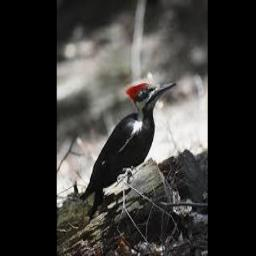Woodpecker: (80, 80, 176, 216)
